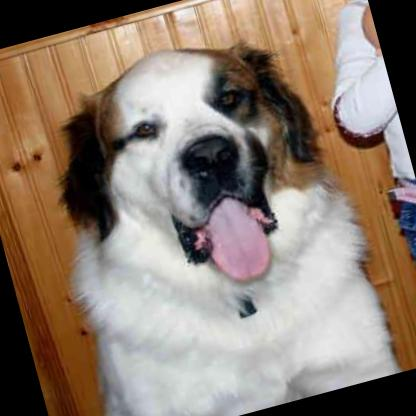Saint_Bernard: (9, 11, 403, 416)
